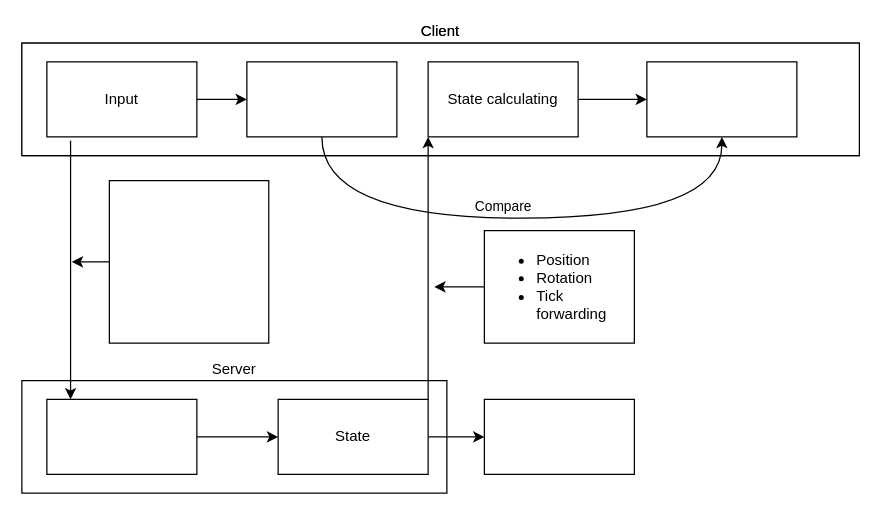
The diagram is 881 pixels wide and 515 high, and some of its shapes have lost their labels. The shapes that lost their labels are listed below. From the top down, each one's centre as x and y in pixels, then its label:
At pixel 321 99: "Predicting State".
At pixel 721 99: "Real State".
At pixel 188 261: "tick num player id wasd rotation".
At pixel 121 436: "Simulate".
At pixel 558 436: "Other Clients".
